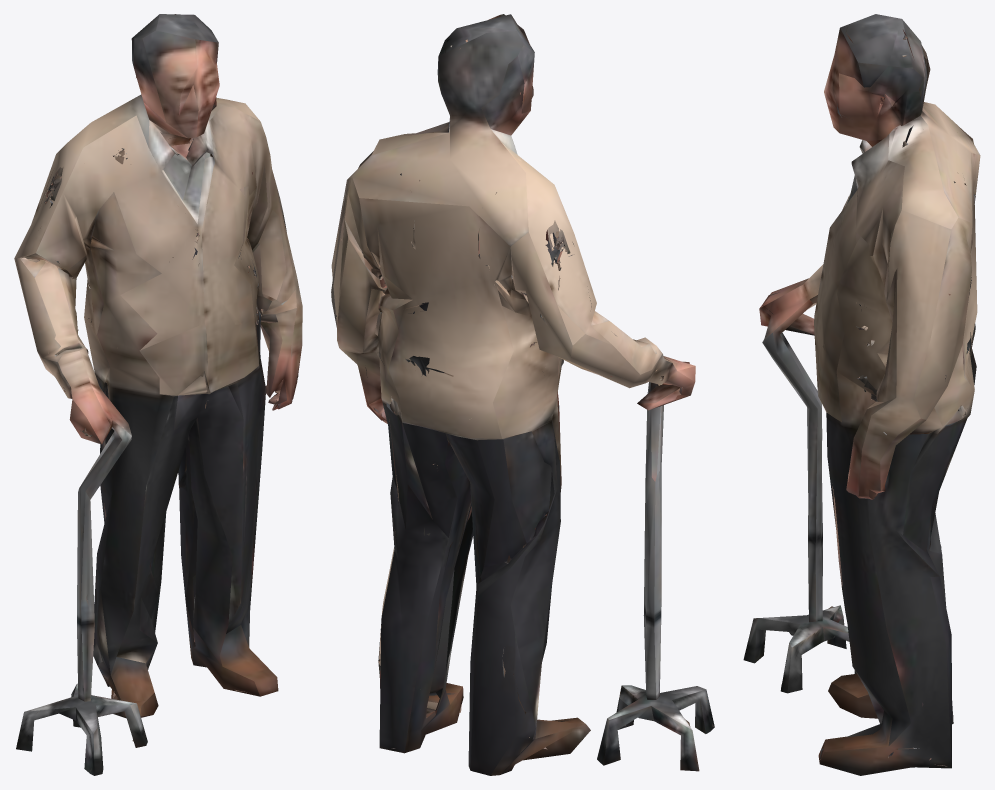
File: person_02.glb
The picture shows the model from 3 angles, left to right: view 1: azimuth 30°, elevation 25°; view 2: azimuth 150°, elevation 25°; view 3: azimuth 270°, elevation 25°; orthographic projection. The views are drawn at different scales.
Parts seen in each view (by area): view 1: Human_Rig; view 2: Human_Rig; view 3: Human_Rig.
Boxes of the visible parts, x1,y1,x2,y2 form: Human_Rig: (14, 14, 302, 775); Human_Rig: (331, 14, 714, 775); Human_Rig: (743, 14, 980, 775).
Bounding box in the file's own units: 0.8004 × 1.67 × 0.5049.
1 material, 1 textured.
